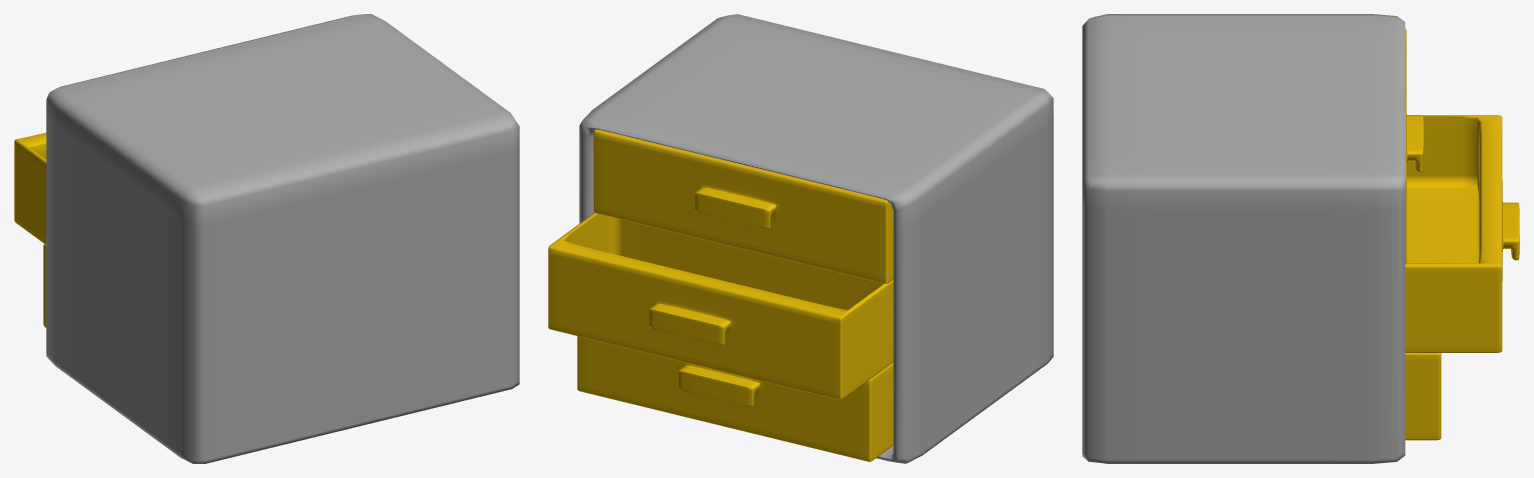
The model's file is Bed Side Table.fbx.
The picture shows the model from 3 angles, left to right: view 1: azimuth 30°, elevation 25°; view 2: azimuth 150°, elevation 25°; view 3: azimuth 270°, elevation 25°; orthographic projection. The views are drawn at different scales.
Visible parts, largest first — view 1: Bed_Side_Unit; view 2: Bed_Side_Unit; view 3: Bed_Side_Unit.
Boxes of the visible parts, x1=… form: Bed_Side_Unit: x1=14, y1=14, x2=519, y2=463; Bed_Side_Unit: x1=548, y1=14, x2=1053, y2=463; Bed_Side_Unit: x1=1082, y1=14, x2=1519, y2=463.
Bounding box in the file's own units: 119 × 92.37 × 128.
